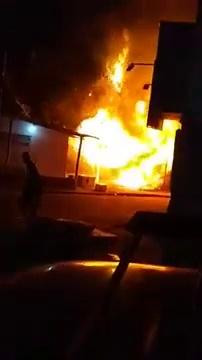fire: (80, 116, 175, 194)
